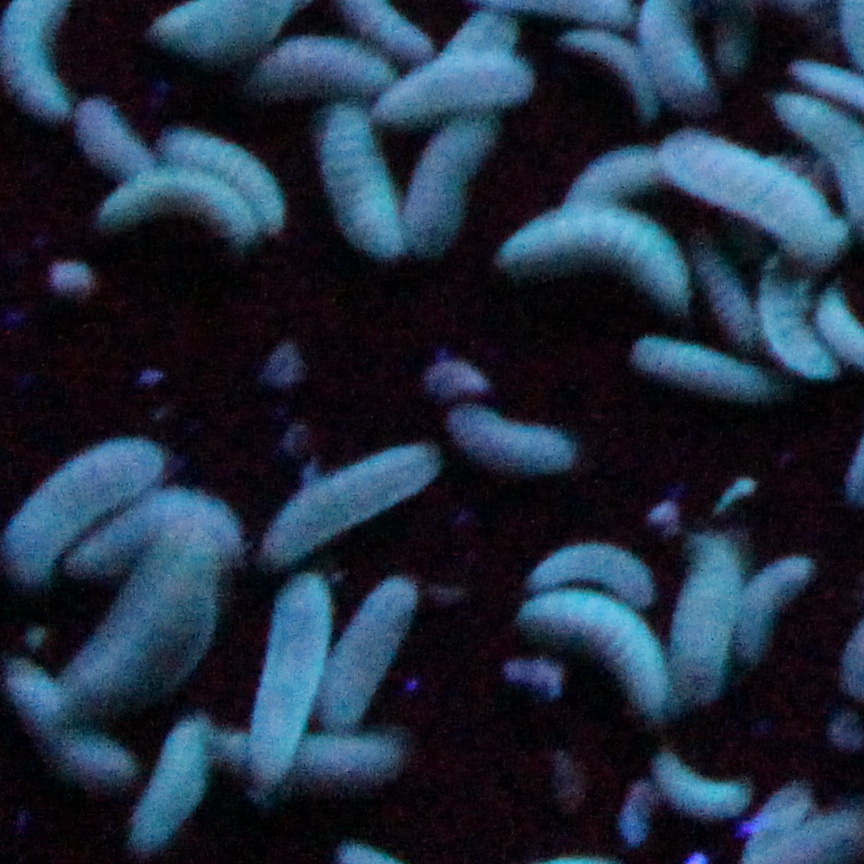larve: (501, 209, 689, 309), (668, 134, 817, 258), (10, 439, 145, 571), (277, 444, 420, 565), (82, 564, 206, 685), (533, 604, 663, 711), (254, 581, 320, 765), (333, 585, 413, 713), (115, 181, 256, 250), (634, 334, 778, 399), (8, 674, 105, 769), (410, 114, 485, 236), (324, 116, 392, 248), (170, 130, 287, 202), (142, 721, 210, 834), (454, 402, 568, 469), (684, 543, 731, 704), (91, 502, 234, 551), (694, 236, 756, 341), (568, 27, 652, 104), (527, 543, 649, 595), (396, 60, 522, 107), (77, 104, 157, 178), (768, 286, 831, 379), (745, 555, 806, 648), (256, 43, 387, 85), (571, 148, 657, 197), (659, 764, 747, 811), (294, 734, 389, 774), (447, 7, 515, 58)
